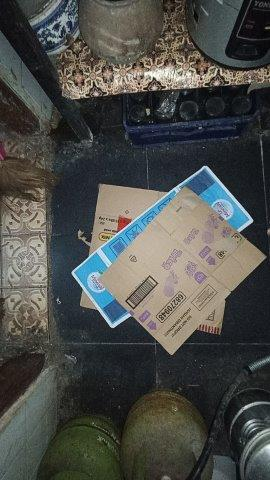kardus: (71, 167, 265, 353)
